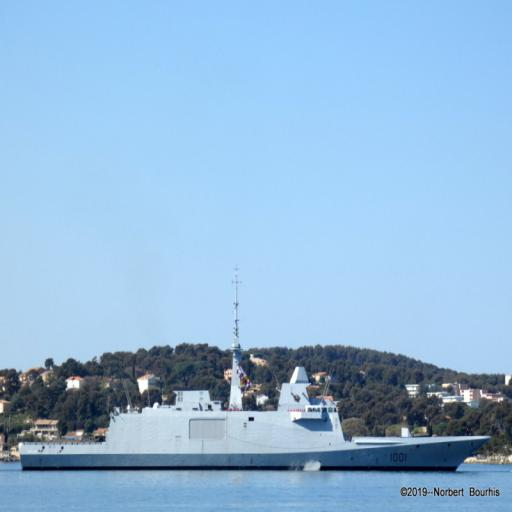Fragata: (20, 257, 493, 476)
